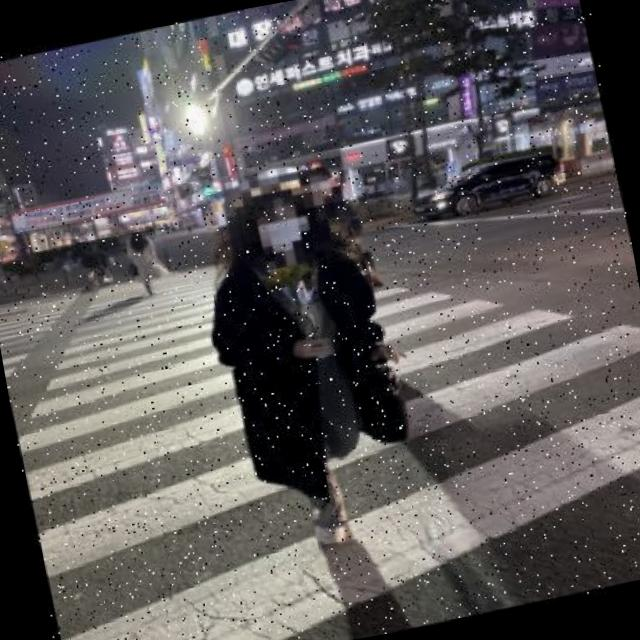Person: (190, 172, 428, 566), (120, 223, 172, 300)
